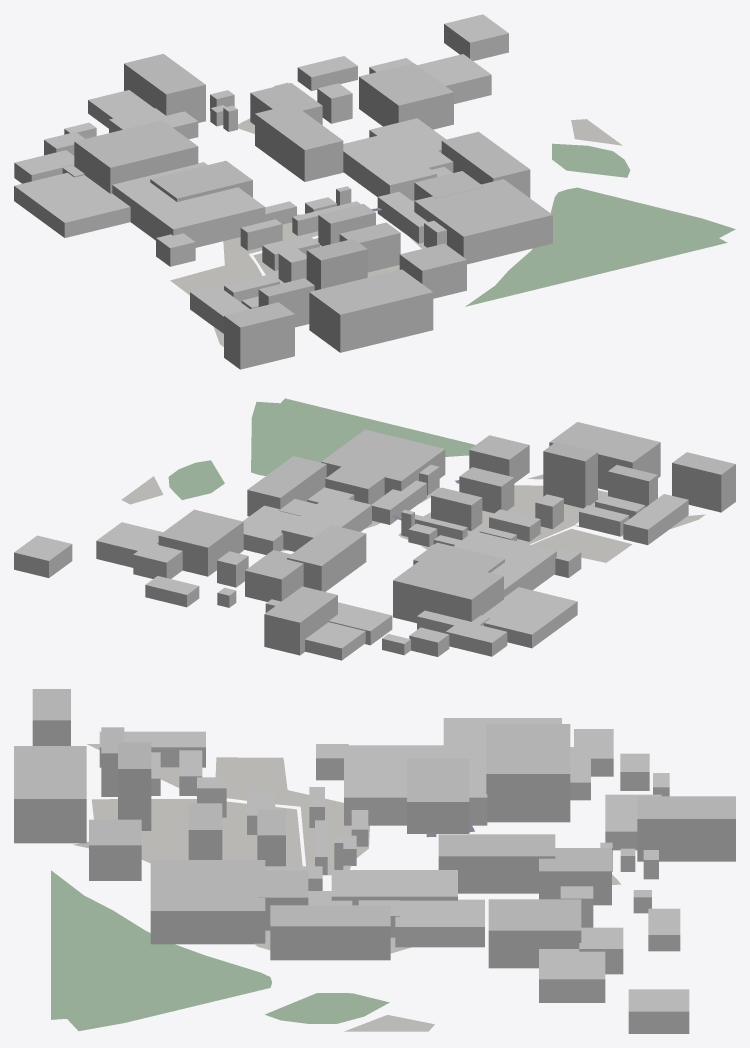
File: 130_91_mid.glb
The picture shows the model from 3 angles, top to bottom: view 1: azimuth 30°, elevation 25°; view 2: azimuth 150°, elevation 25°; view 3: azimuth 270°, elevation 25°; orthographic projection. The views are drawn at different scales.
Bounding box in the file's own units: 518 × 50.78 × 530.
